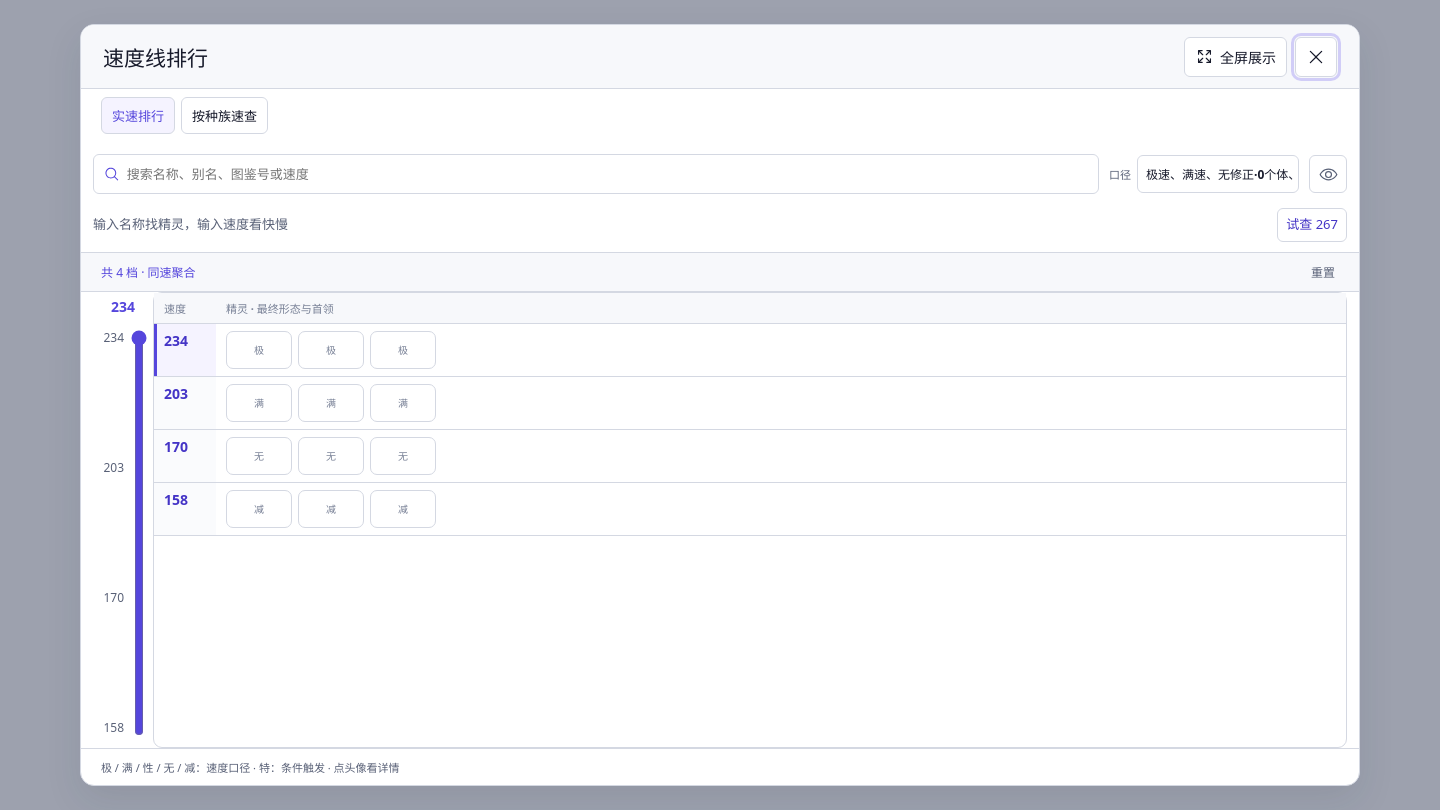
Test case: 仅命中种族速度时定位完整种族表，不创建空实速档
This screenshot has width=1440, height=810.
Type "100" into the field named "搜索速度榜精灵" at point(607, 174), box [127,156,1088,192]
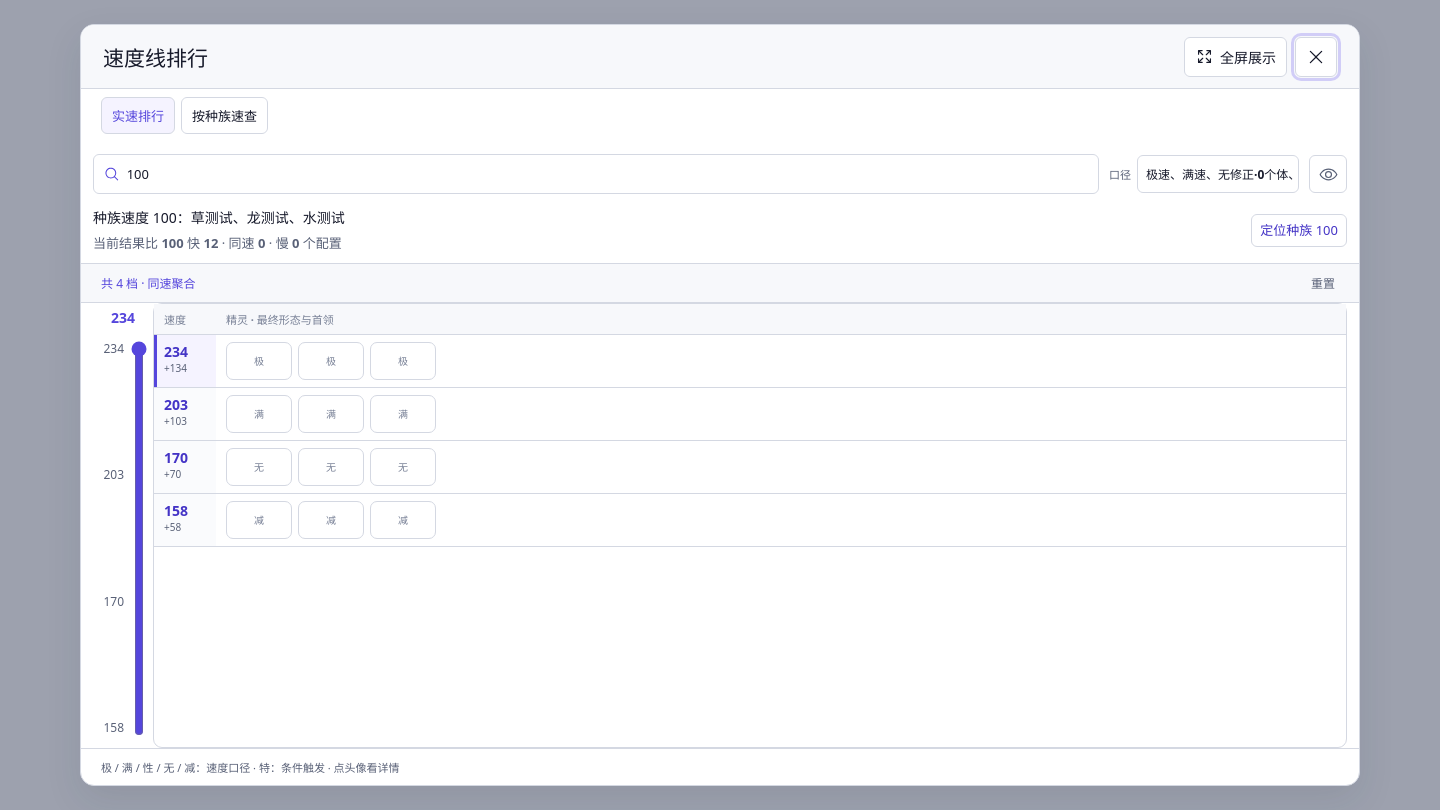
Click the button "定位种族 100" at point(1299, 230), box [1251,214,1347,247]
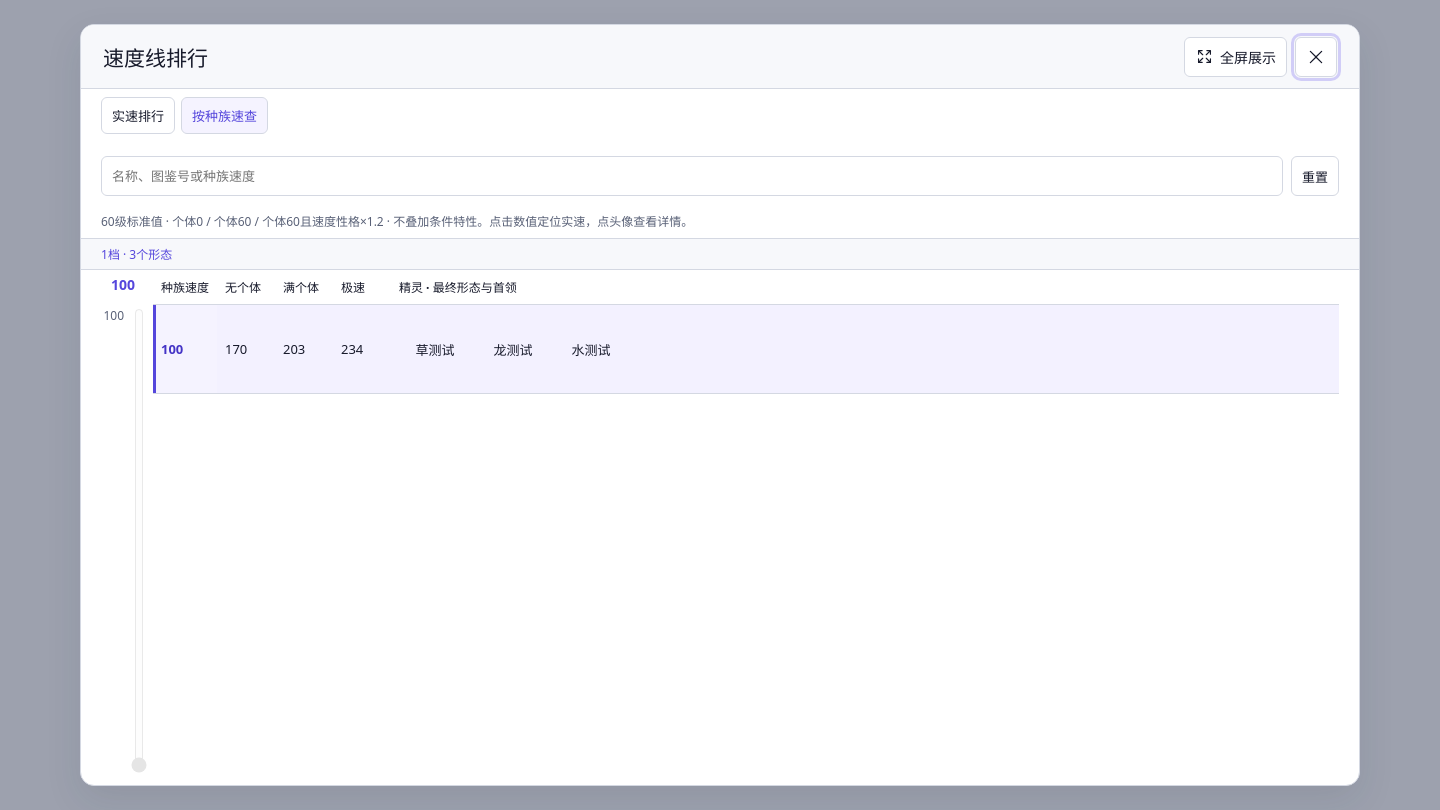
Check: the field named "搜索种族总览" is empty, box [112,158,1272,194]
Check: the row "100 170 203 234 草测试 龙测试 水测试" is shown, box [153,304,1339,394]
Check: the number of buttons named "标准速度详情" is 3, box [399,313,471,385]; [477,313,549,385]; [555,313,627,385]
